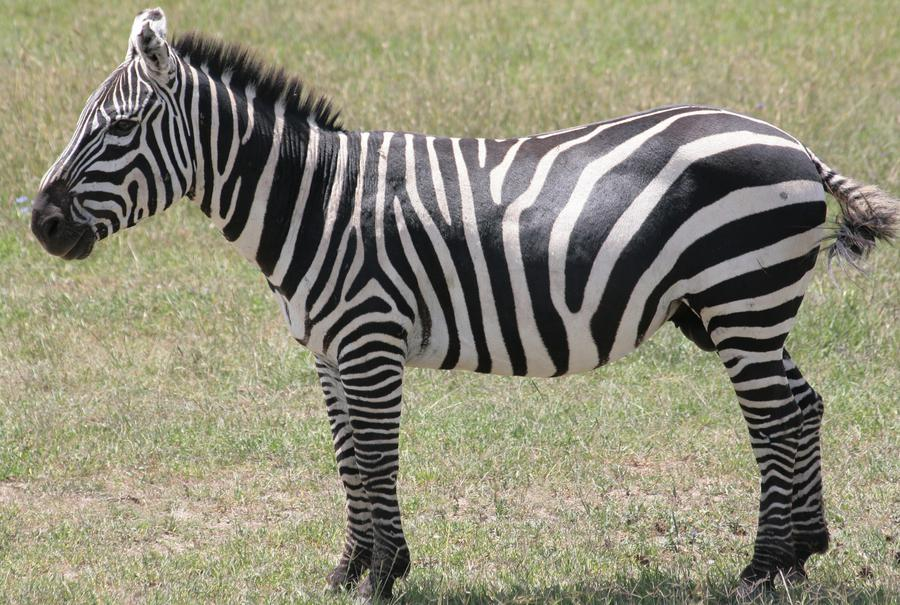zebra_plains: (291, 118, 811, 328)
